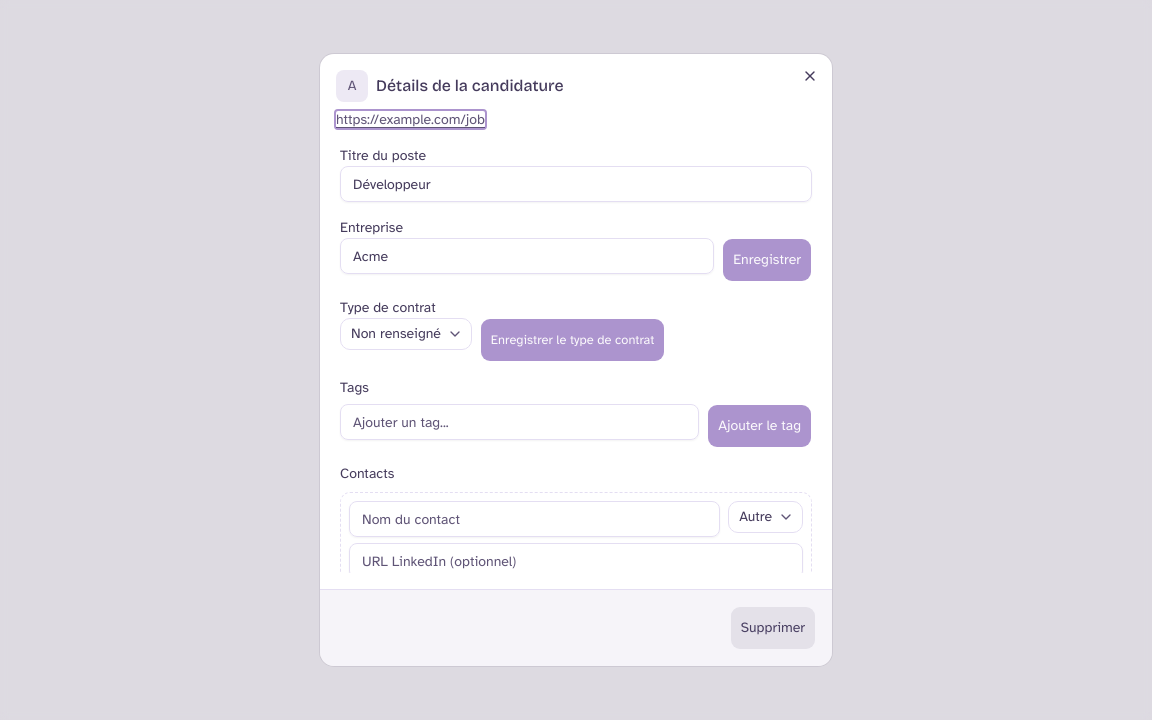
Test: JobDialog — suppression › shows the job's title and company before confirming deletion
Click the button "Supprimer".
click(773, 628)  # box [730,606,816,650]
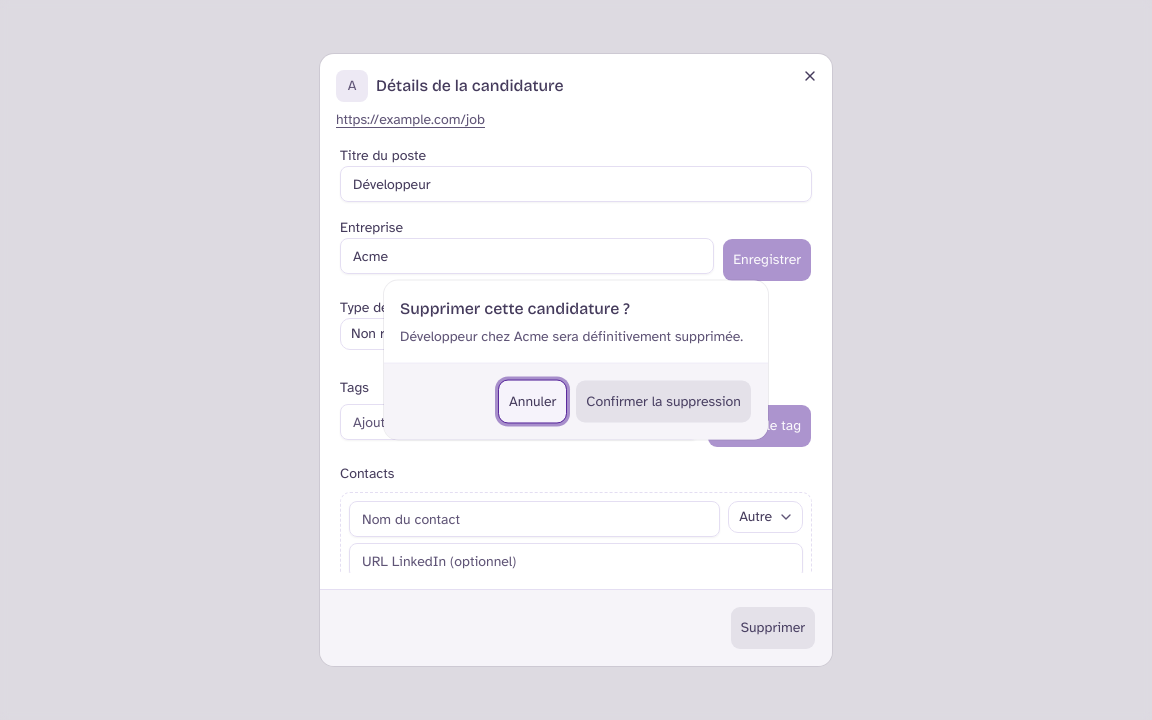
Check: the heading "Supprimer cette candidature ?" is shown, box [400,296,630,320]
Check: the text "Développeur chez Acme sera définitivement supprimée." is shown, box [400,326,743,346]
